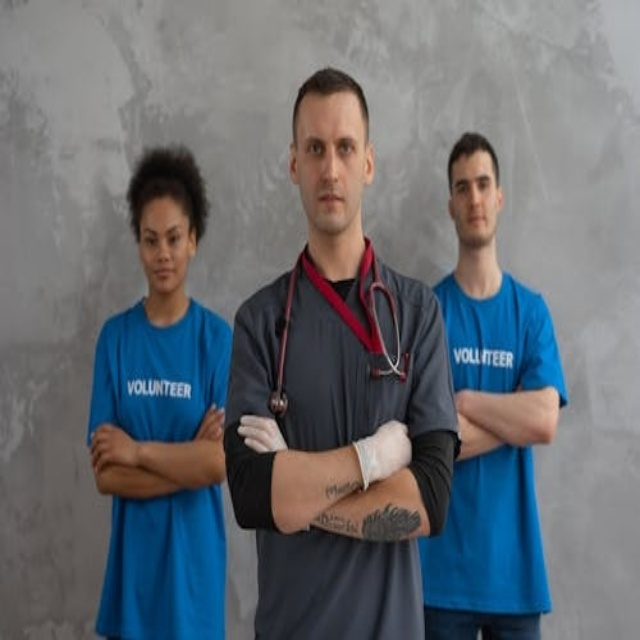Guantes: (351, 419, 413, 492), (239, 415, 289, 454)
Sin_gafas: (297, 129, 360, 169), (133, 217, 188, 252), (451, 165, 495, 198)
Sin_guantes: (84, 411, 141, 467), (195, 402, 225, 444)
Sin_mascara: (308, 183, 349, 217), (461, 206, 493, 240), (147, 258, 178, 290)
